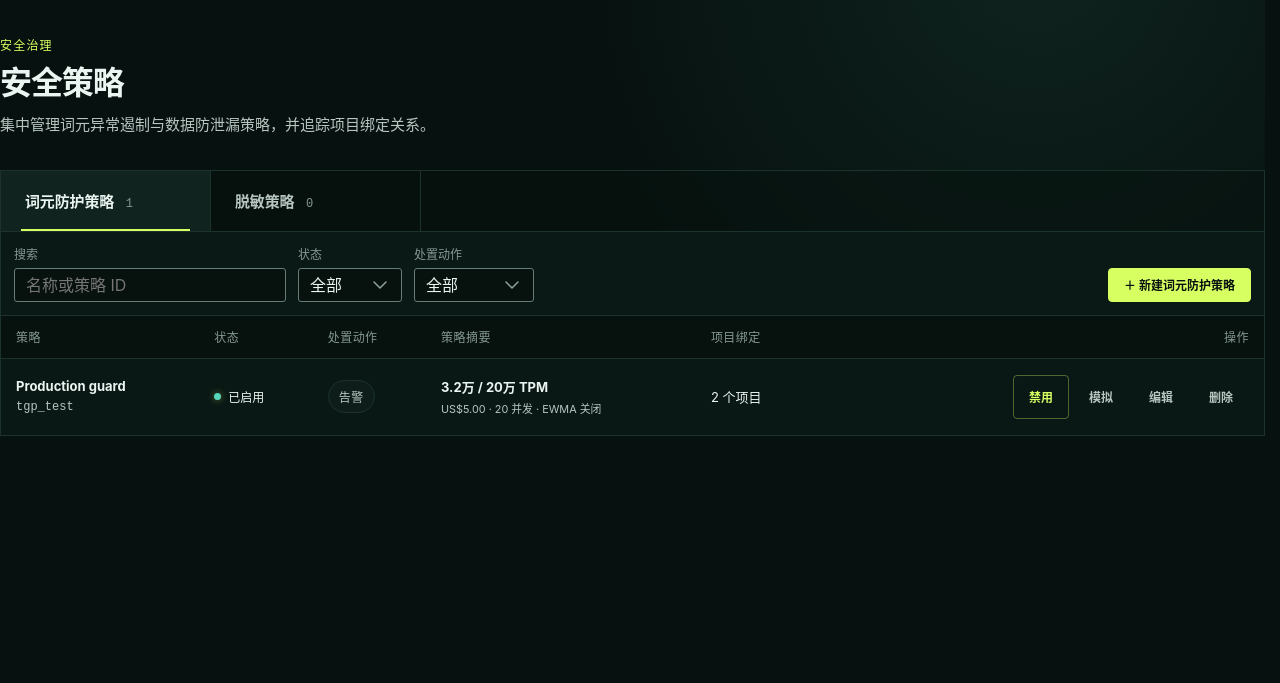
token guard policy workflow › passes every relevant window signal to the simulator
This screenshot has width=1280, height=683.
Click the button "模拟": (1101, 397) x1=1073 y1=375 x2=1129 y2=419
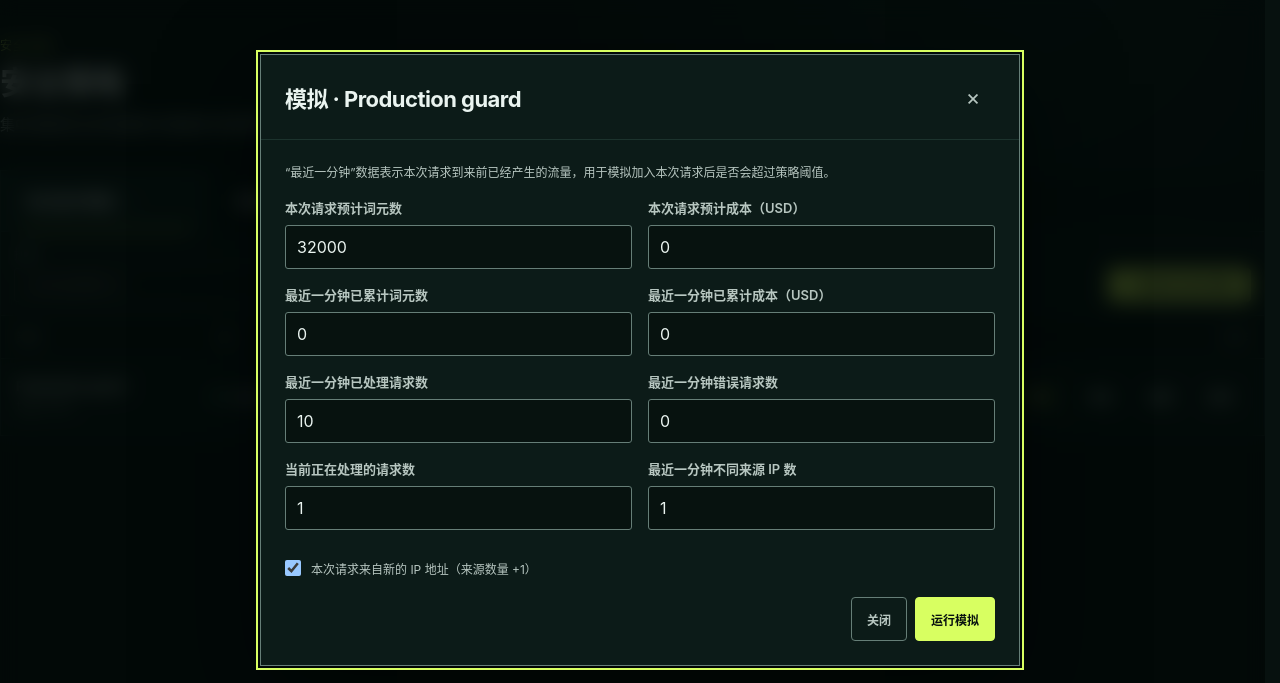
Replace the text in the number field labelled "本次请求预计成本（USD）" with "1.25": (822, 247) x1=648 y1=225 x2=995 y2=269
Replace the text in the number field labelled "最近一分钟已累计成本（USD）" with "2.5": (822, 334) x1=648 y1=312 x2=995 y2=356
Replace the text in the number field labelled "最近一分钟已处理请求数" with "12": (458, 421) x1=285 y1=399 x2=632 y2=443
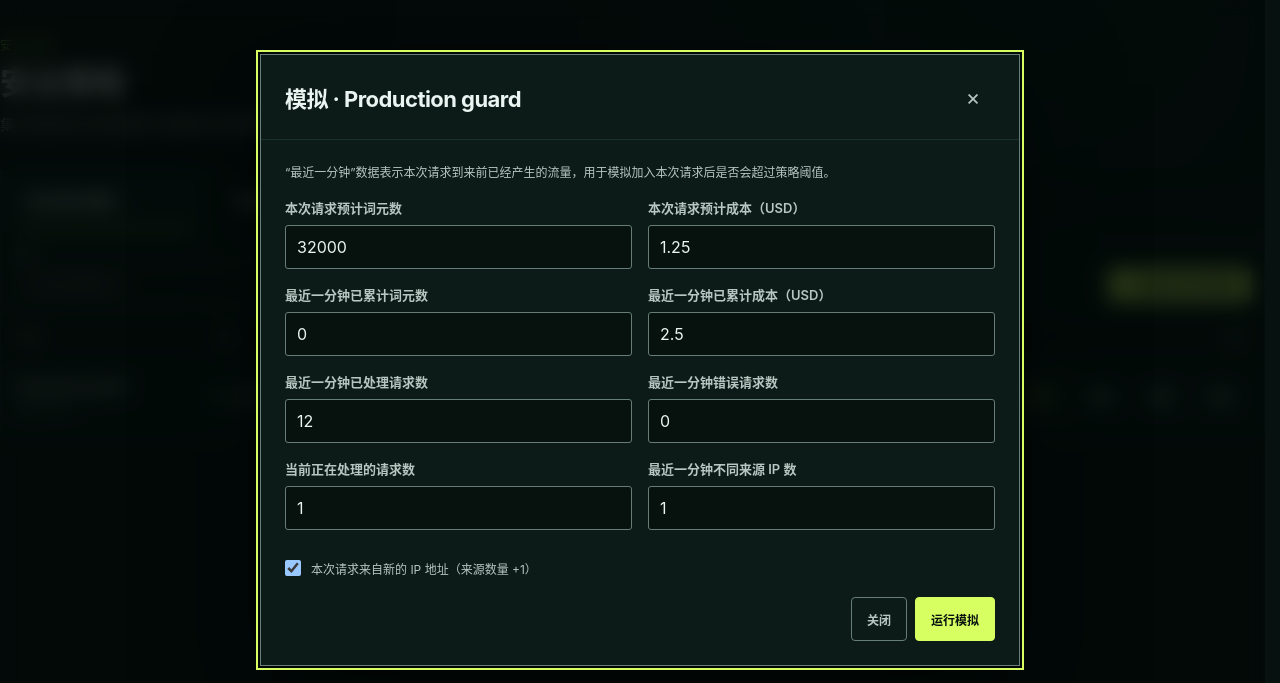
Replace the text in the number field labelled "最近一分钟错误请求数" with "3": (822, 421) x1=648 y1=399 x2=995 y2=443
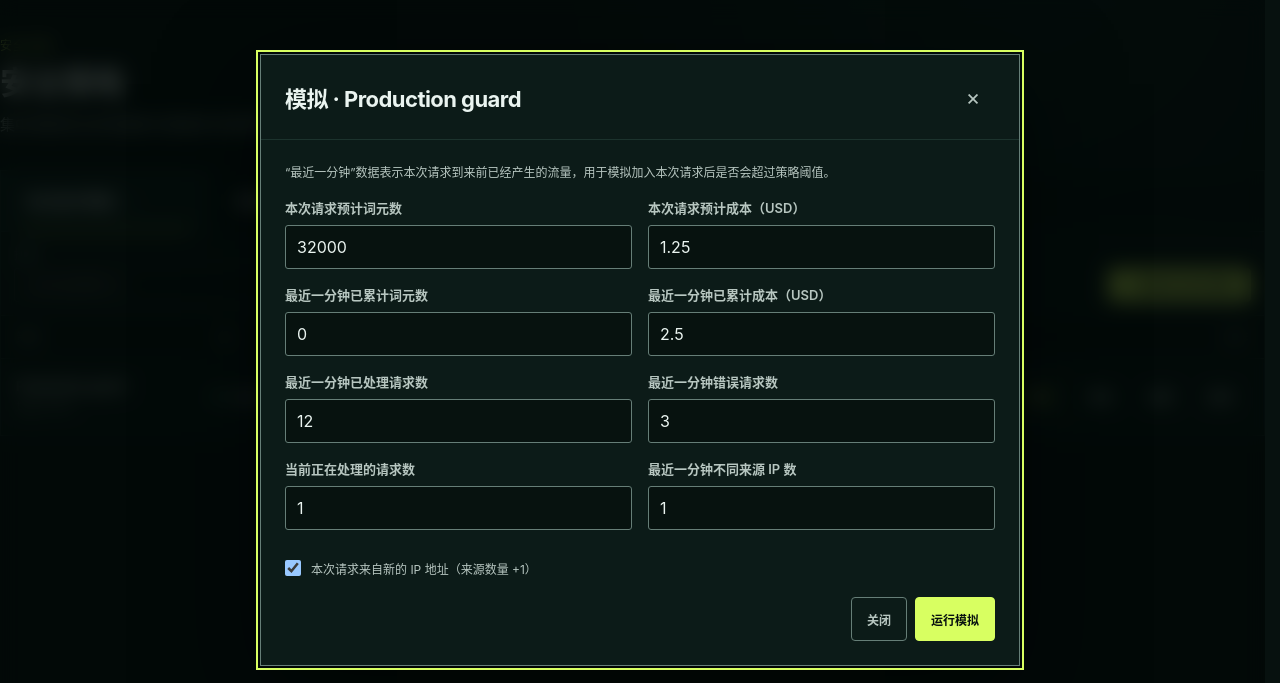
Replace the text in the number field labelled "最近一分钟不同来源 IP 数" with "7": (822, 508) x1=648 y1=486 x2=995 y2=530
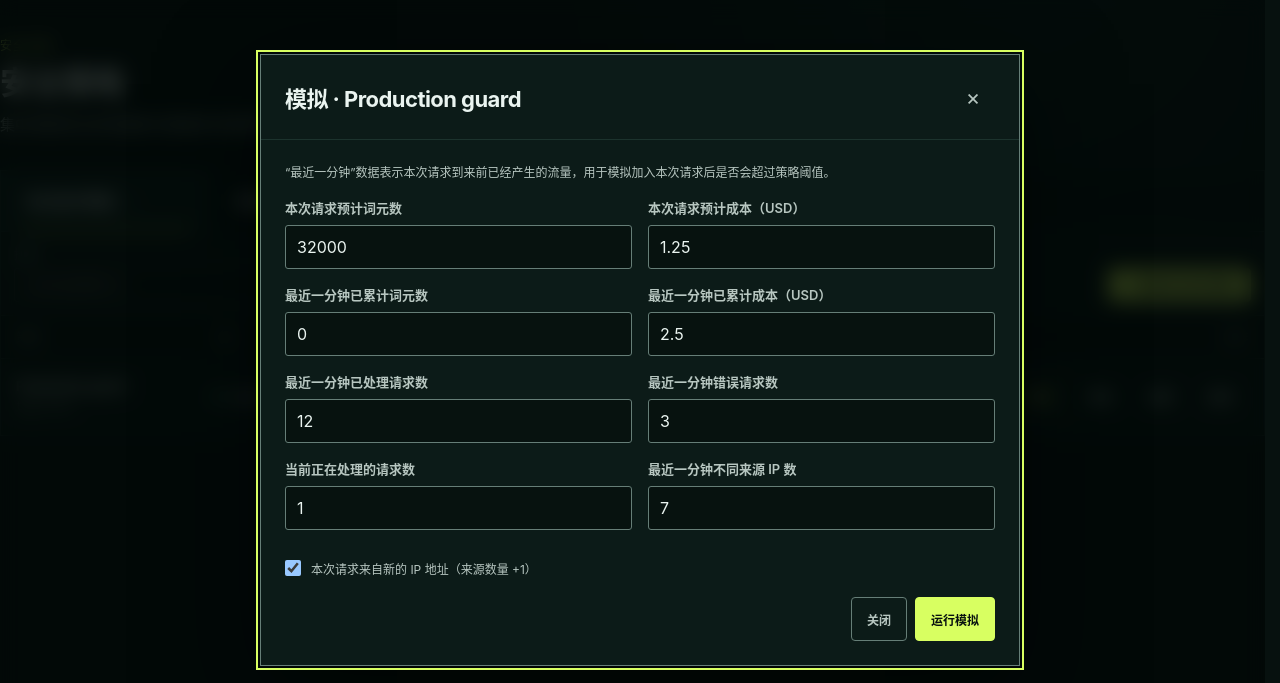
Click the checkbox labelled "本次请求来自新的 IP 地址（来源数量 +1）": (293, 568) x1=285 y1=560 x2=301 y2=576
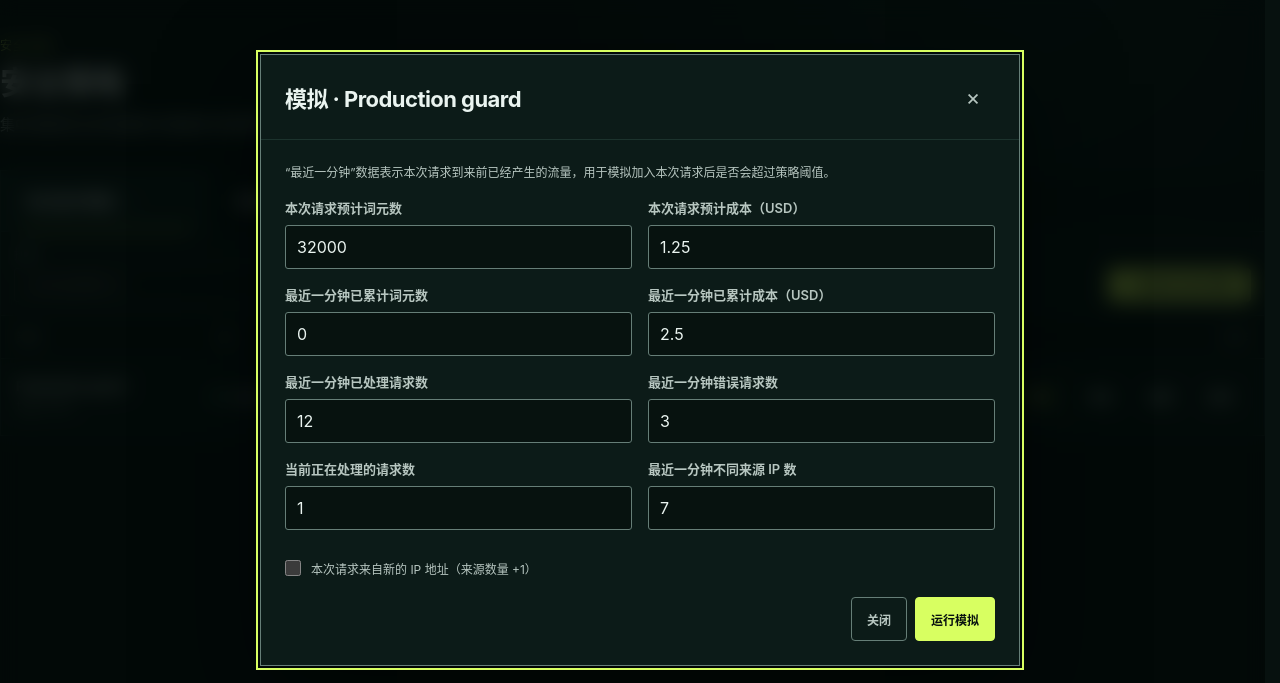
Click the button "运行模拟": (955, 619) x1=915 y1=597 x2=995 y2=641
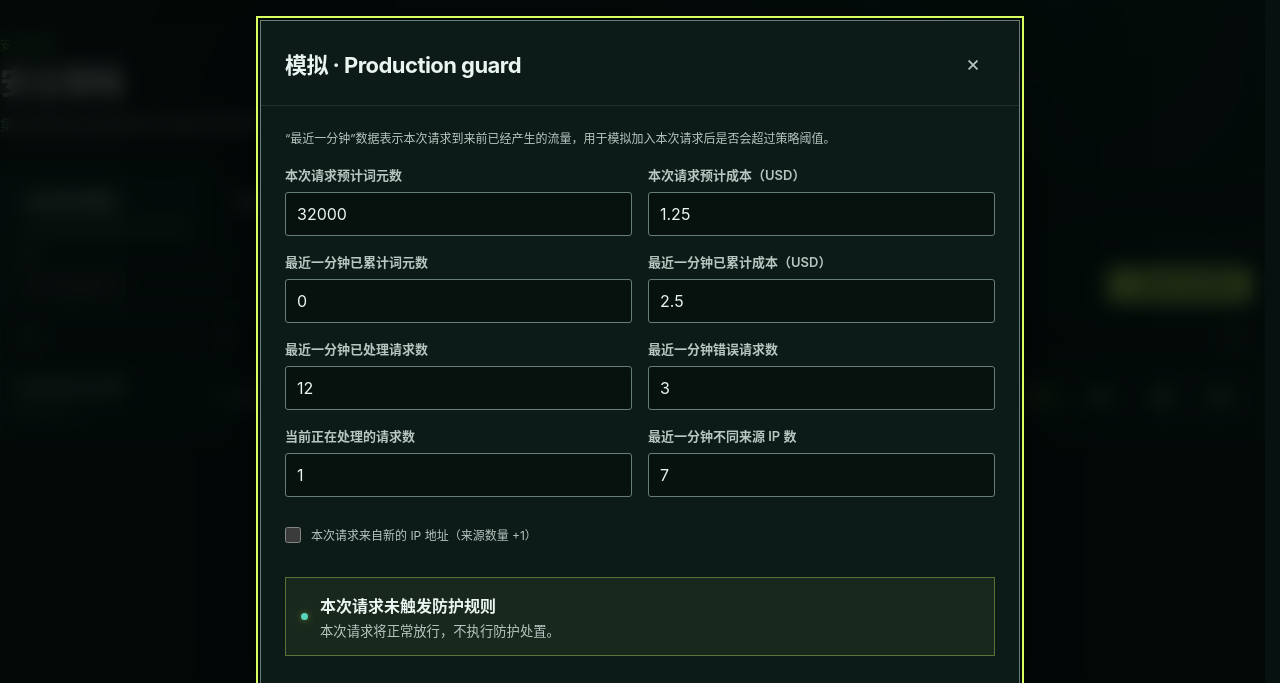
Check: the text "本次请求未触发防护规则" is shown, box x1=320 y1=596 x2=496 y2=616
Check: the text "本次请求将正常放行，不执行防护处置。" is shown, box x1=320 y1=621 x2=560 y2=640
